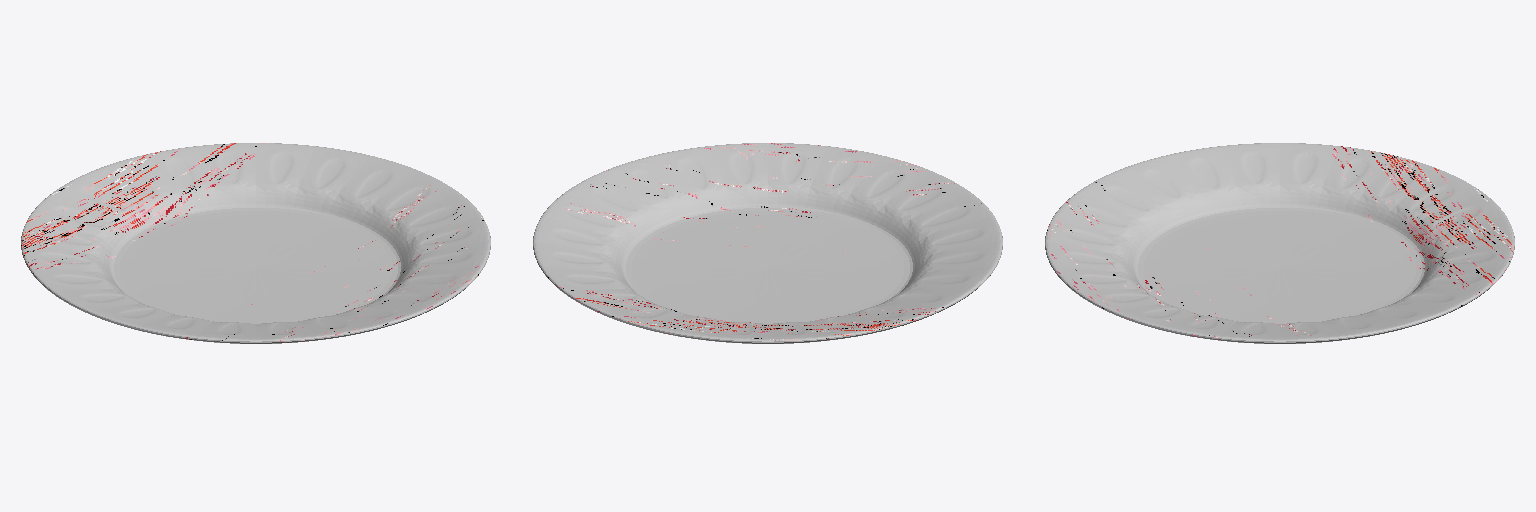
The picture shows the model from 3 angles: view 1: azimuth 30°, elevation 25°; view 2: azimuth 150°, elevation 25°; view 3: azimuth 270°, elevation 25°; orthographic projection.
Parts seen in each view (by area): view 1: Material.001; view 2: Material.001; view 3: Material.001.
Part boxes in pixels (bbox=[...]): Material.001: bbox=[21, 143, 490, 343]; Material.001: bbox=[533, 143, 1002, 343]; Material.001: bbox=[1045, 143, 1514, 343].
Size of the model in its own units: 21.81 by 1.49 by 21.81.
1 materials, 1 textured.